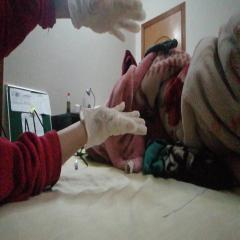gloved: (80, 100, 146, 150), (70, 0, 146, 43)
